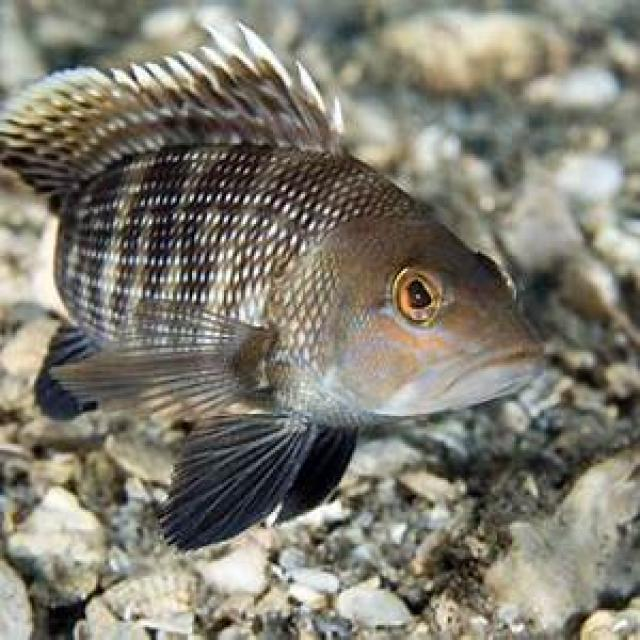Healthy Fish: (0, 47, 561, 552)
